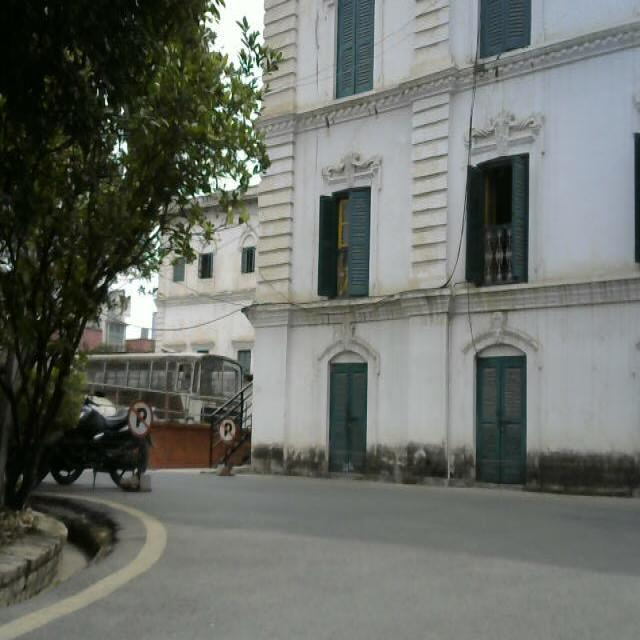Buildings: (258, 3, 640, 476)
NoParking: (123, 392, 175, 496), (221, 414, 240, 471)
Road: (88, 478, 640, 638), (279, 286, 282, 290)
trees: (3, 1, 238, 329)
